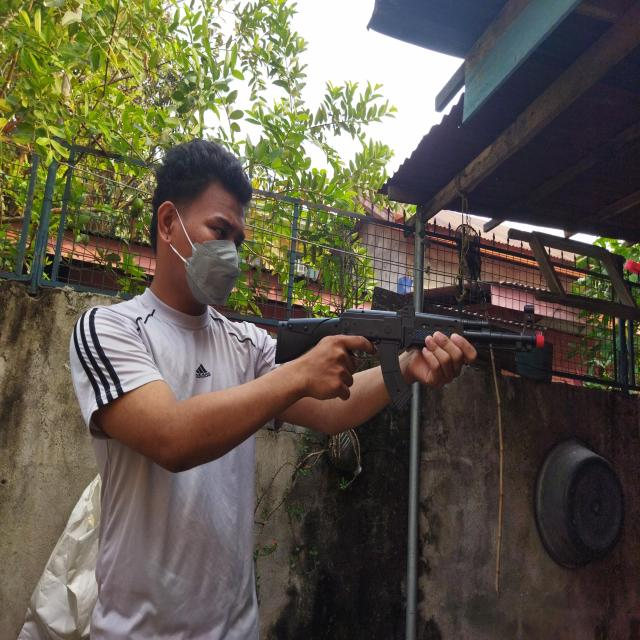rifle: (275, 305, 544, 407)
